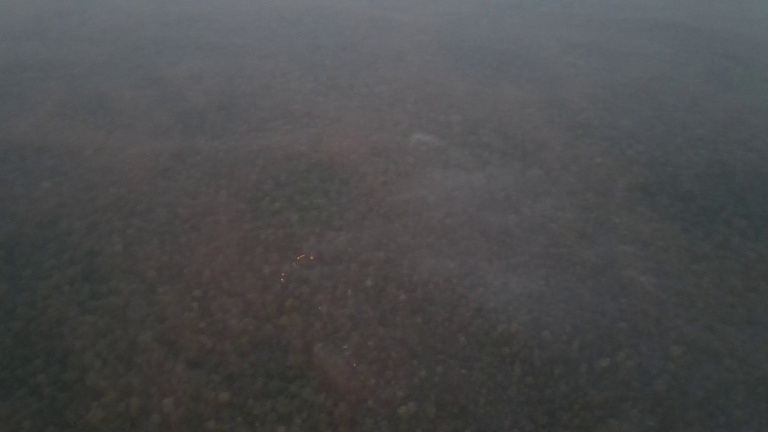fire: (277, 251, 315, 288), (341, 344, 360, 370), (316, 306, 325, 317)
smoke: (407, 130, 450, 155)
